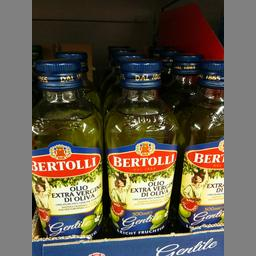oil: (104, 60, 181, 236), (32, 60, 106, 236), (174, 60, 223, 228)
